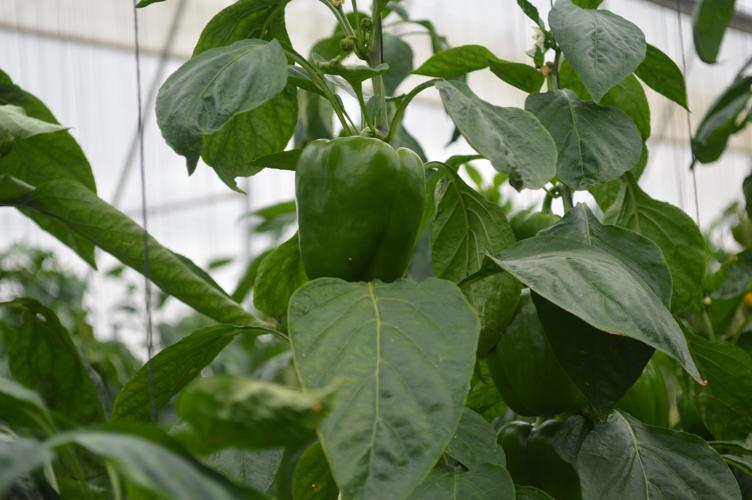BellPepper: (290, 125, 438, 289), (487, 276, 603, 415)
